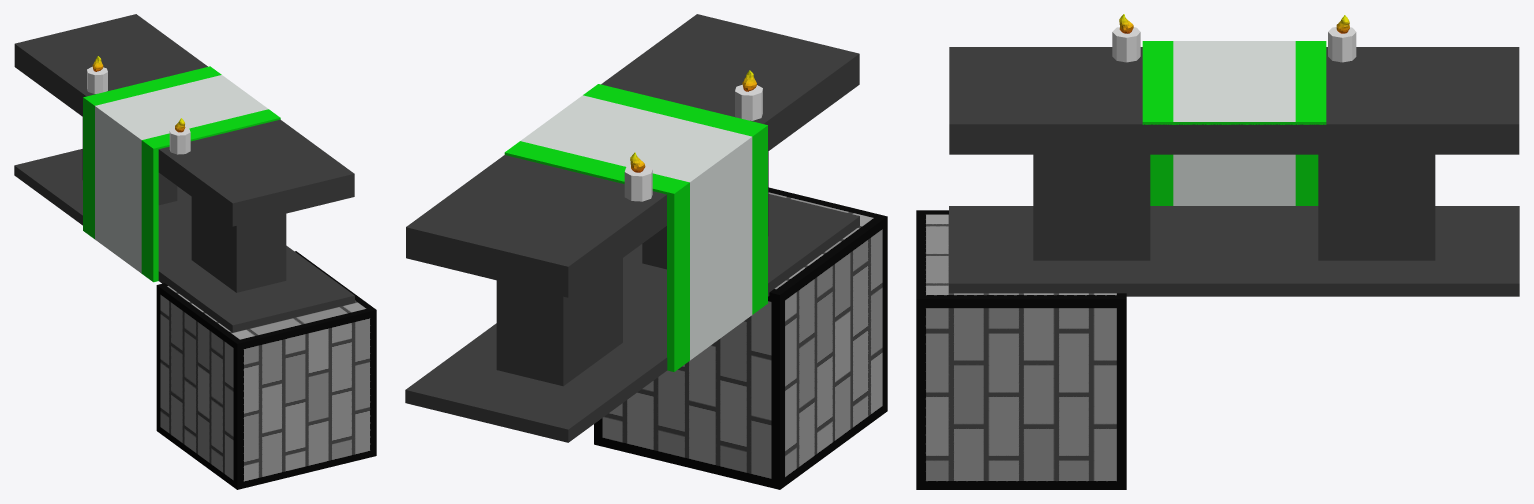
File: Altar.glb
3 renders of one model, left to right at view 1: azimuth 30°, elevation 25°; view 2: azimuth 150°, elevation 25°; view 3: azimuth 270°, elevation 25°, orthographic. The views are drawn at different scales.
Parts seen in each view (by area): view 1: Cube, StoneBricksBaked, Cube.001, Cylinder.001, Cylinder; view 2: Cube, StoneBricksBaked, Cube.001, Cylinder, Cylinder.001; view 3: Cube, StoneBricksBaked, Cube.001, Cylinder.001, Cylinder.
Boxes of the visible parts, x1=… form: Cube: x1=14, y1=14, x2=354, y2=332; StoneBricksBaked: x1=156, y1=251, x2=376, y2=489; Cube.001: x1=83, y1=66, x2=280, y2=282; Cylinder.001: x1=169, y1=127, x2=190, y2=154; Cylinder: x1=87, y1=66, x2=107, y2=93; Cube: x1=405, y1=14, x2=859, y2=442; StoneBricksBaked: x1=594, y1=187, x2=887, y2=489; Cube.001: x1=504, y1=84, x2=767, y2=371; Cylinder: x1=624, y1=165, x2=652, y2=201; Cylinder.001: x1=735, y1=84, x2=762, y2=120; Cube: x1=949, y1=47, x2=1519, y2=296; StoneBricksBaked: x1=916, y1=210, x2=1126, y2=489; Cube.001: x1=1142, y1=41, x2=1326, y2=205; Cylinder.001: x1=1112, y1=27, x2=1140, y2=62; Cylinder: x1=1328, y1=27, x2=1356, y2=62.
Size of the model in its own units: 0.98 by 2.07 by 2.81.
6 materials, 3 textured.
